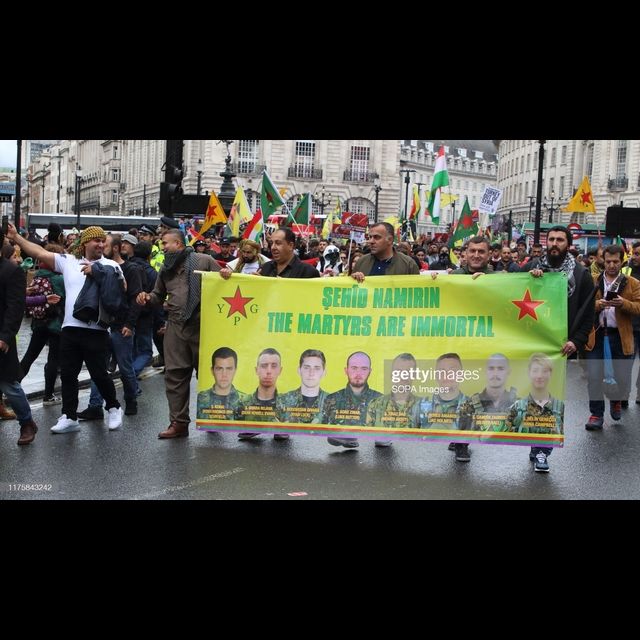YPG: (212, 286, 261, 330)
YPJ: (505, 286, 555, 334)
